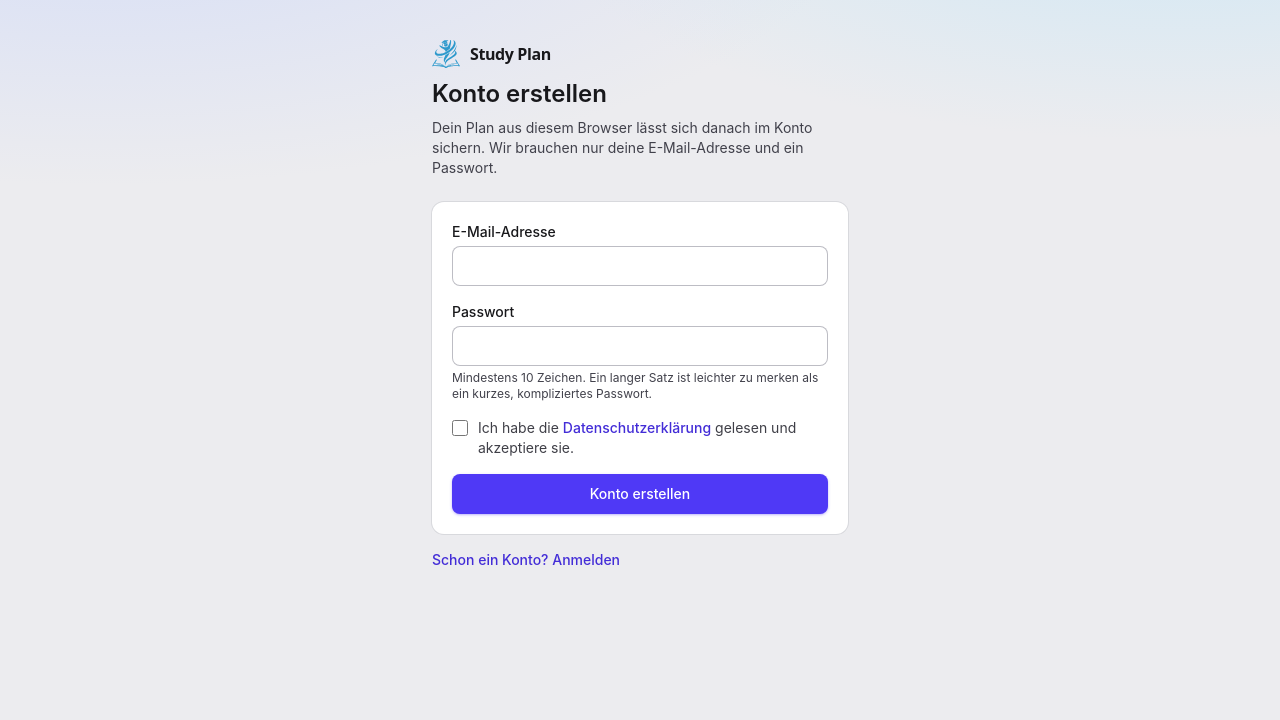
privacy policy on sign-up › creates the account only after the privacy policy is accepted
The width and height of the screenshot is (1280, 720).
Type "studi@example.org" into the field labelled "E-Mail-Adresse".
click(640, 266); type("studi@example.org")  # box [452,246,828,286]
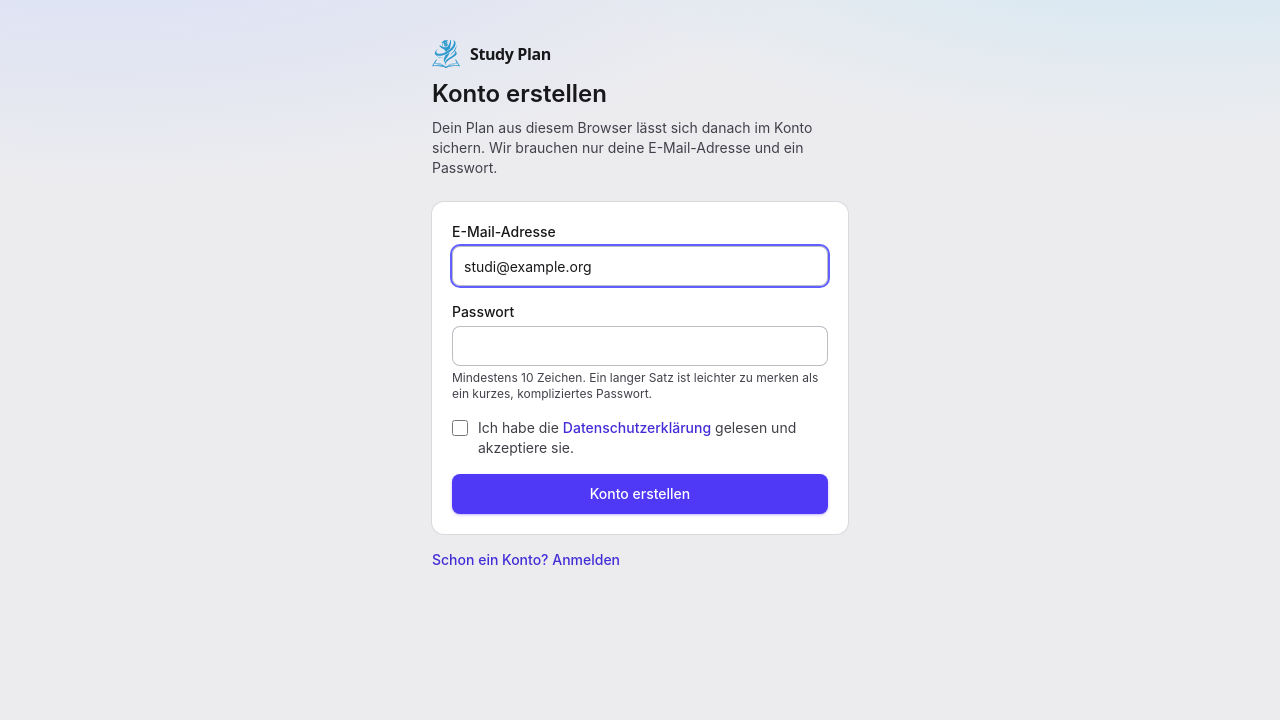
Type "ein-langes-passwort" into the password field labelled "Passwort".
click(640, 346); type("ein-langes-passwort")  # box [452,326,828,366]
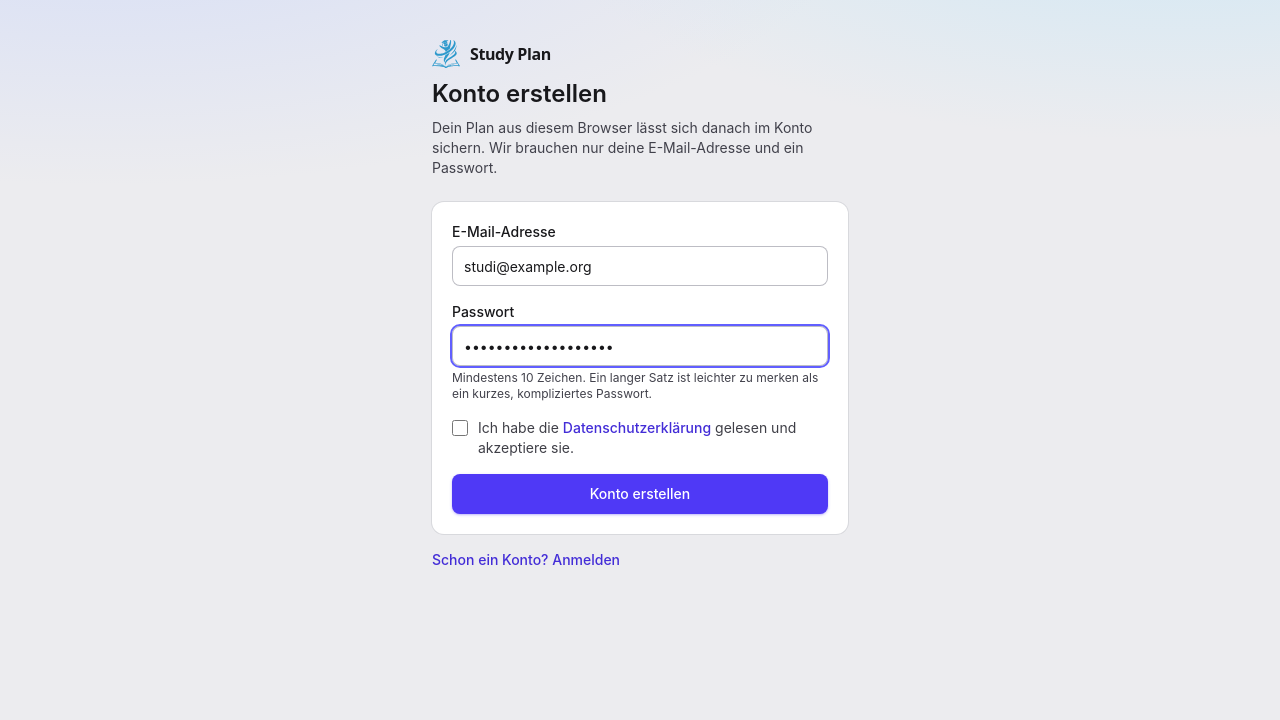
Check: the checkbox labelled "Ich habe die Datenschutzerklärung gelesen und akzeptiere sie." is not checked, box [452,420,468,436]
Click the button "Konto erstellen".
click(640, 494)  # box [452,474,828,514]
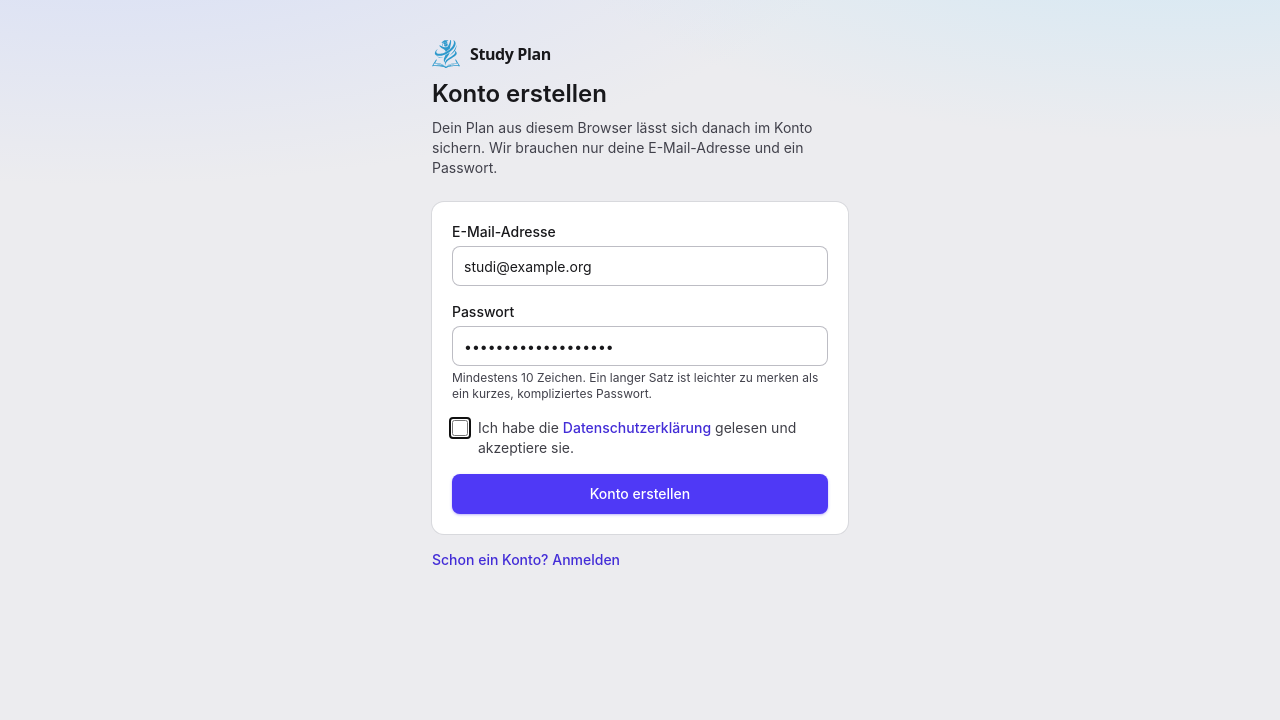
Click the checkbox labelled "Ich habe die Datenschutzerklärung gelesen und akzeptiere sie.".
click(460, 428)  # box [452,420,468,436]
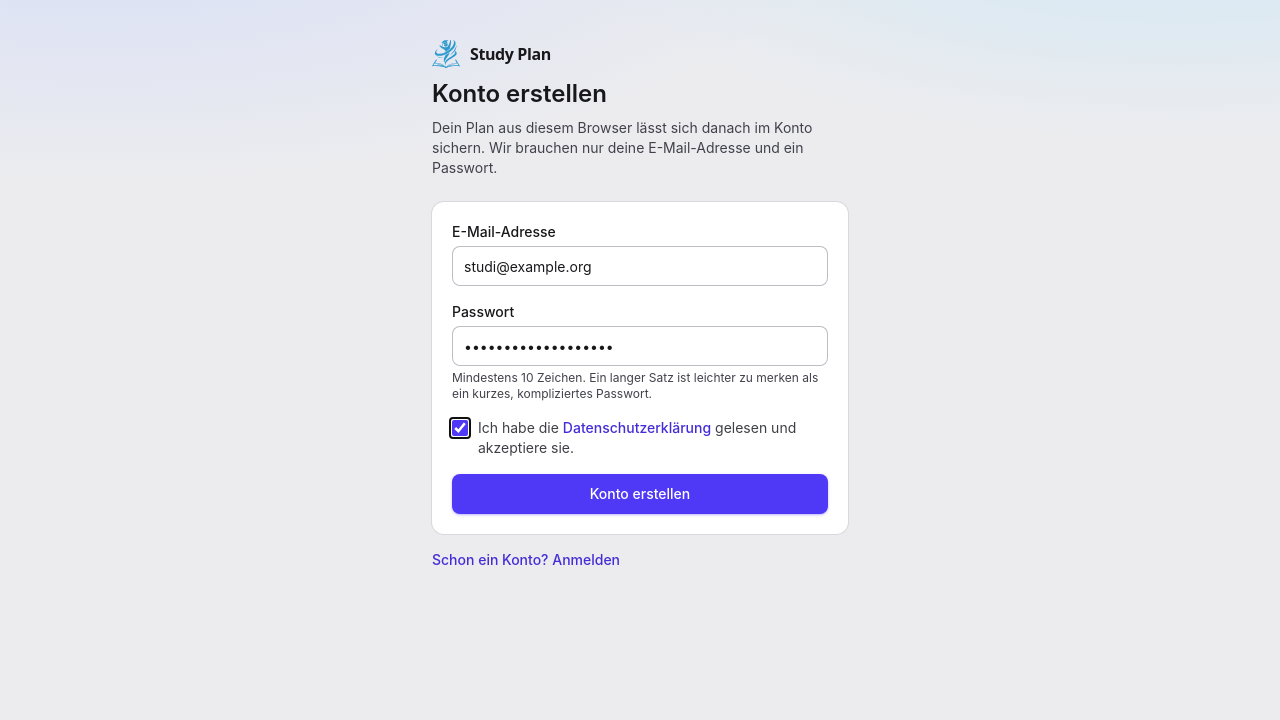
Click the button "Konto erstellen".
click(640, 494)  # box [452,474,828,514]
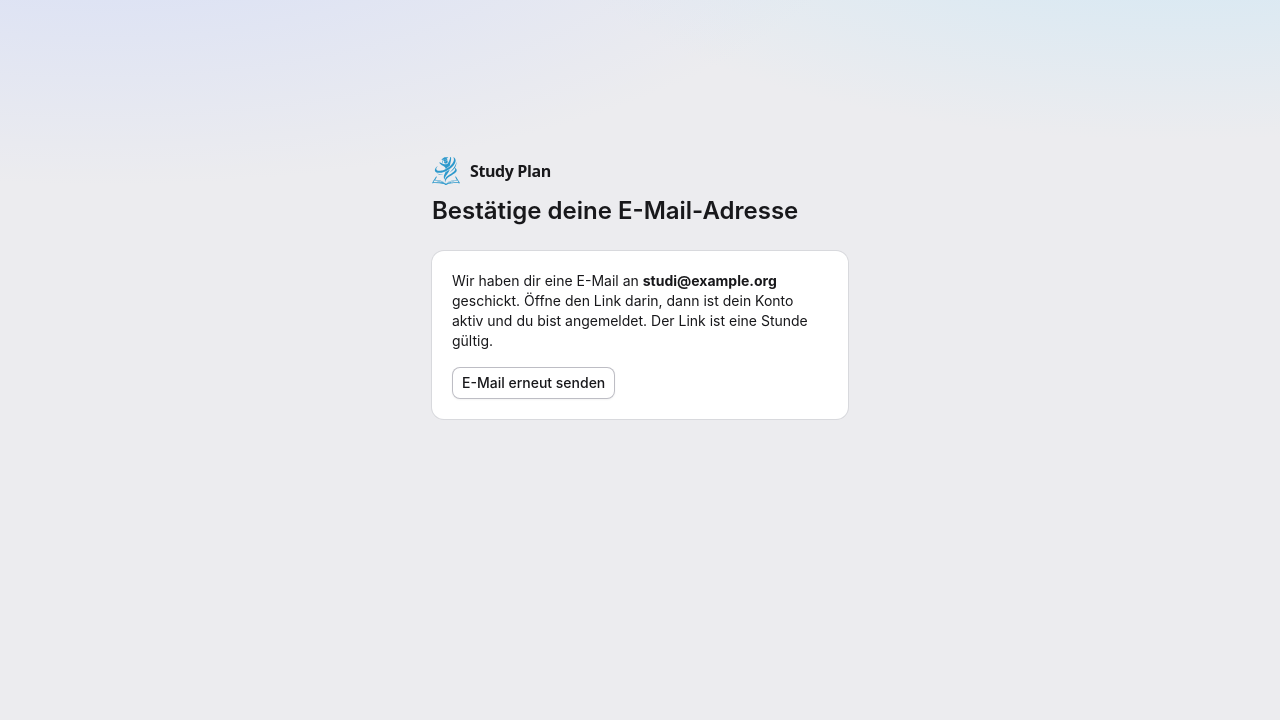
Check: the heading "Bestätige deine E-Mail-Adresse" is shown, box [432,195,848,227]
